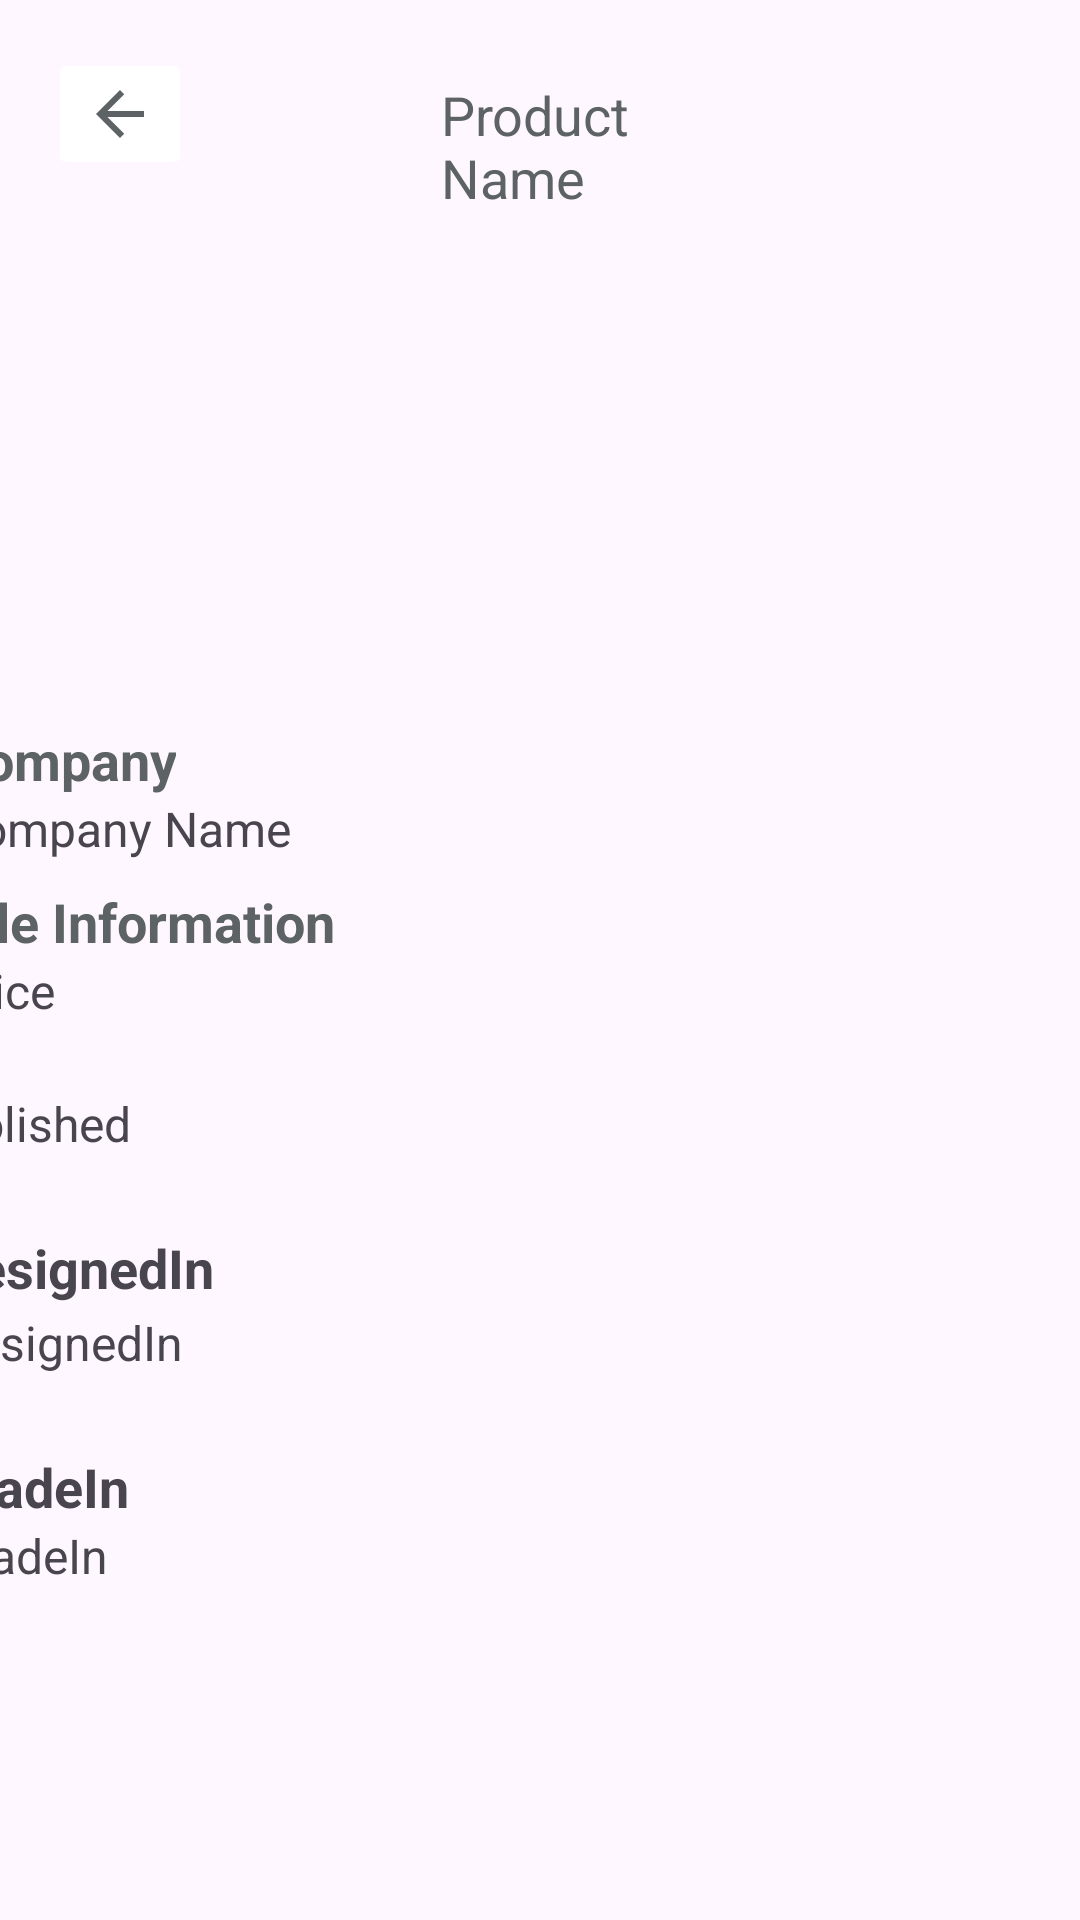

Icon click points for this 1080 x 1920 phone screenshot, format point (x, y):
arrow back: point (120, 114)
